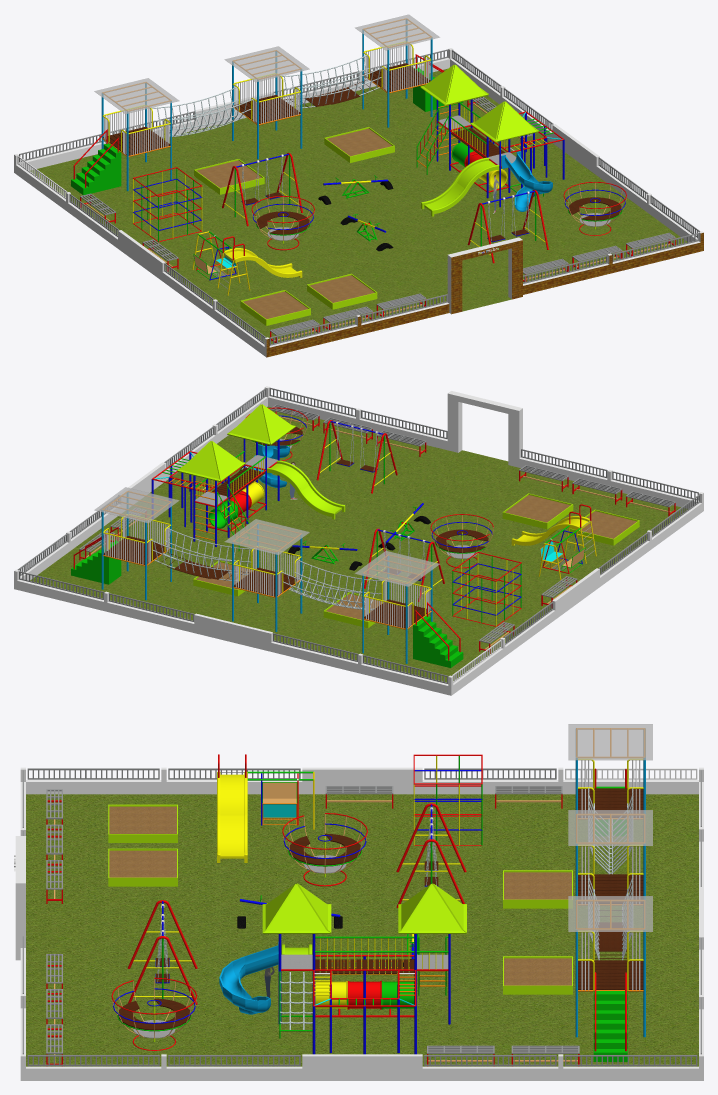
The model's file is playground+kawu.glb.
3 renders of one model, top to bottom at view 1: azimuth 30°, elevation 25°; view 2: azimuth 150°, elevation 25°; view 3: azimuth 270°, elevation 25°, orthographic. The views are drawn at different scales.
Visible parts, largest first — view 1: object 640, object 177, object 176, object 215, object 214, object 343, object 532, object 613, object 288, object 467, object 491, object 492 (+11 smaller); view 2: object 640, object 177, object 215, object 176, object 214, object 532, object 467, object 343, object 216, object 288, object 613, object 490 (+15 smaller); view 3: object 640, object 215, object 176, object 177, object 288, object 343, object 532, object 613, object 299, object 216, object 494, object 493 (+25 smaller).
Boxes of the visible parts, bbox=[...] form: object 640: bbox=[14, 48, 703, 357]; object 177: bbox=[355, 14, 439, 50]; object 176: bbox=[224, 46, 309, 82]; object 215: bbox=[94, 78, 179, 114]; object 214: bbox=[71, 143, 121, 195]; object 343: bbox=[240, 290, 310, 325]; object 532: bbox=[307, 273, 377, 309]; object 613: bbox=[324, 127, 394, 162]; object 288: bbox=[194, 159, 264, 194]; object 467: bbox=[421, 157, 499, 216]; object 491: bbox=[495, 102, 538, 142]; object 492: bbox=[445, 65, 488, 105]; object 640: bbox=[14, 386, 703, 695]; object 177: bbox=[94, 487, 179, 523]; object 215: bbox=[354, 550, 439, 586]; object 176: bbox=[224, 519, 309, 555]; object 214: bbox=[413, 616, 463, 667]; object 532: bbox=[502, 493, 573, 529]; object 467: bbox=[267, 460, 345, 519]; object 343: bbox=[569, 509, 639, 545]; object 216: bbox=[71, 540, 121, 584]; object 288: bbox=[323, 592, 383, 627]; object 613: bbox=[193, 560, 252, 596]; object 490: bbox=[177, 441, 220, 481]; object 640: bbox=[15, 767, 703, 1080]; object 215: bbox=[568, 724, 652, 760]; object 176: bbox=[568, 810, 652, 845]; object 177: bbox=[568, 896, 652, 931]; object 288: bbox=[503, 870, 572, 908]; object 343: bbox=[108, 804, 177, 842]; object 532: bbox=[108, 848, 177, 886]; object 613: bbox=[503, 956, 572, 994]; object 299: bbox=[217, 771, 247, 862]; object 216: bbox=[593, 991, 627, 1061]; object 494: bbox=[398, 884, 466, 933]; object 493: bbox=[263, 884, 330, 933].
Size of the model in its own units: 20.15 by 4.35 by 20.35.
34 materials, 8 textured.
